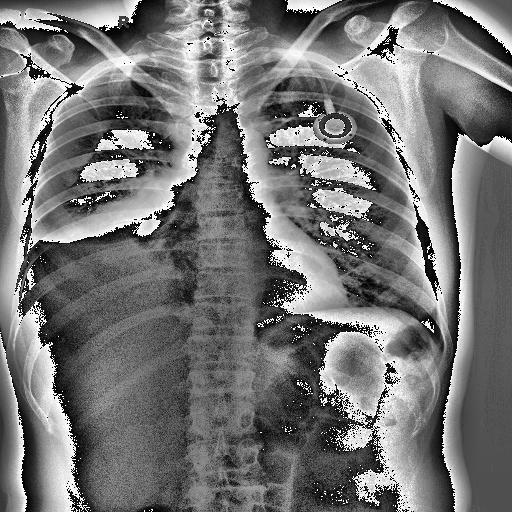10- Pleural effusion: (25, 190, 175, 332), (16, 212, 173, 334), (24, 220, 192, 310)
